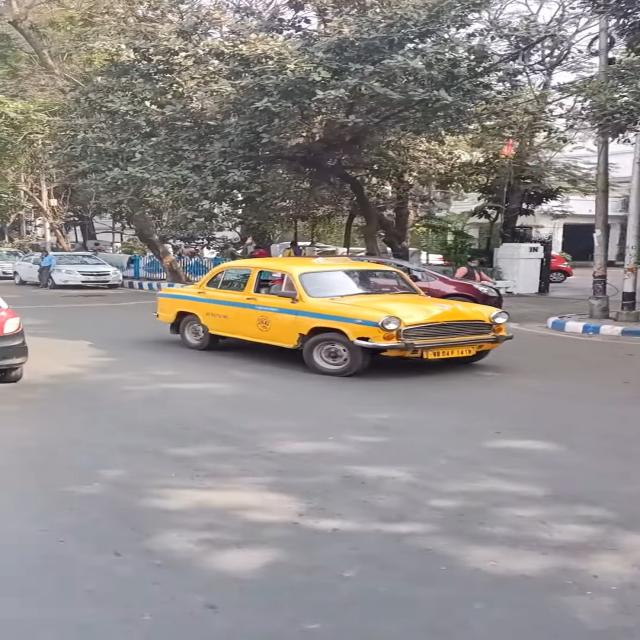Taxi: (152, 250, 527, 387)
